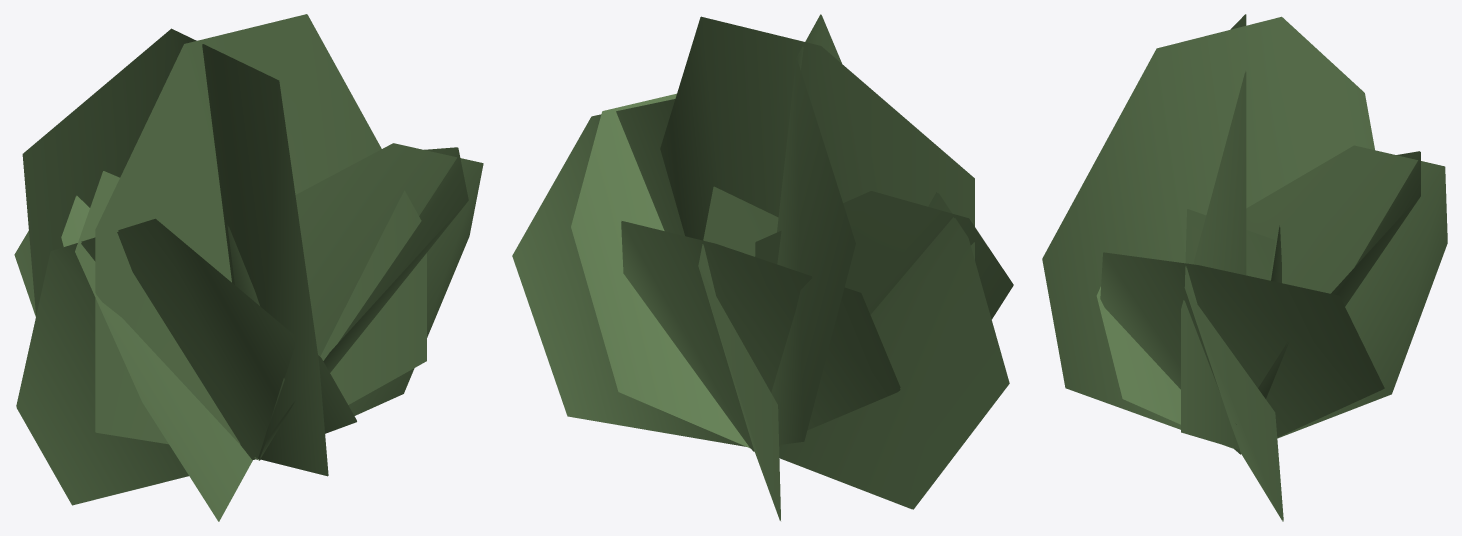
File: Bush_Small.fbx
3 renders of one model, left to right at view 1: azimuth 30°, elevation 25°; view 2: azimuth 150°, elevation 25°; view 3: azimuth 270°, elevation 25°, orthographic. The views are drawn at different scales.
Parts seen in each view (by area): view 1: Bush_Small; view 2: Bush_Small; view 3: Bush_Small.
Boxes of the visible parts, x1,y1,x2,y2 form: Bush_Small: [14, 14, 483, 521]; Bush_Small: [512, 14, 1013, 520]; Bush_Small: [1042, 14, 1447, 521].
Bounding box in the file's own units: 112 × 98.64 × 86.96.
